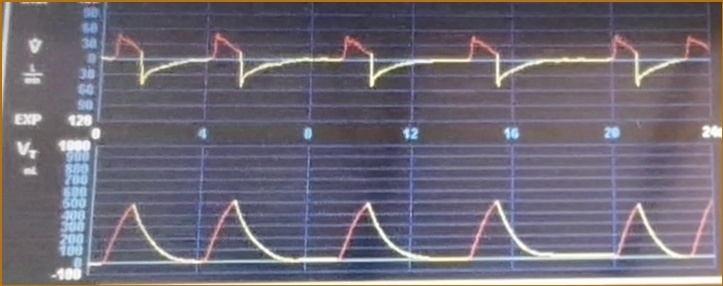Normal Flow: (106, 19, 708, 108)
Normal Volume: (95, 190, 714, 269)
